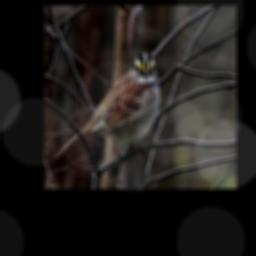Sparrow: (54, 52, 160, 159)
